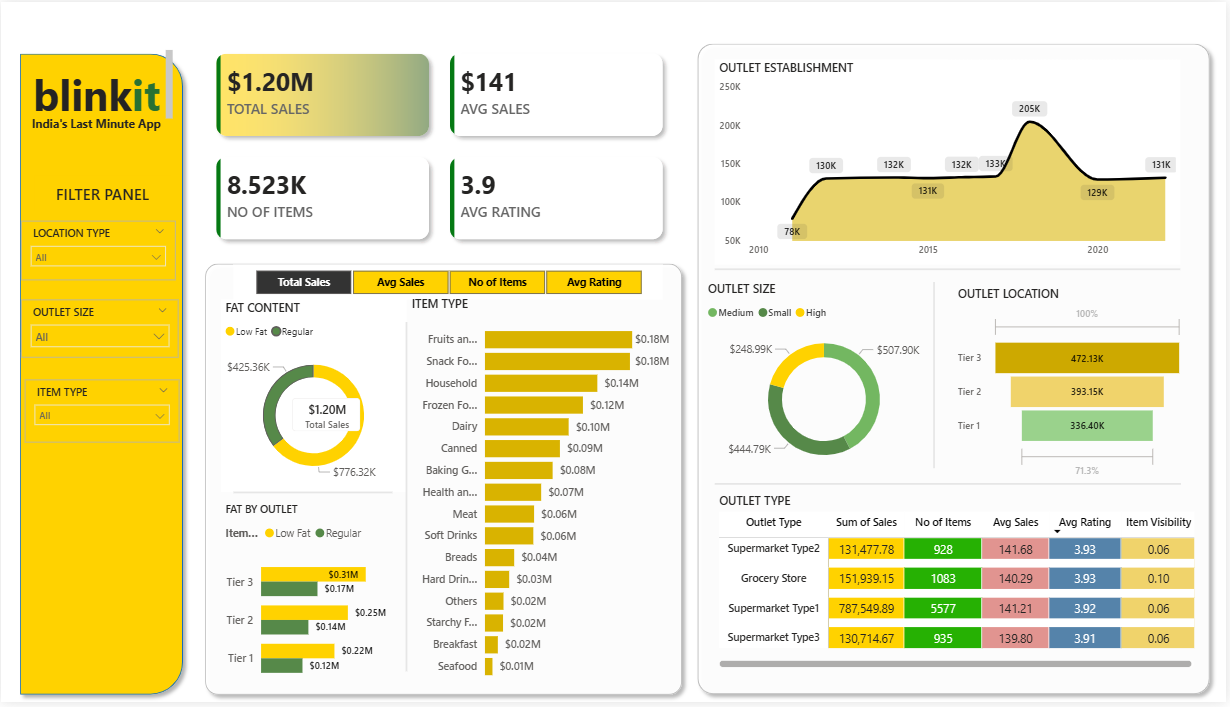

What the dashboard file says about the page in this screenshot:
{"tool":"powerbi","page":{"name":"Page 1","canvas":[1400,800],"ordinal":0},"visuals":[{"type":"shape","box":[13.5,49.5,204.1,750.4],"z":0},{"type":"textbox","box":[31.5,49.5,169.6,90.1],"z":1000},{"type":"textbox","box":[30,124.6,169.6,28.5],"z":2000},{"type":"cardVisual","fields":{"Data":["BlinkIT Grocery Data.Total Sales","BlinkIT Grocery Data.Avg Sales","BlinkIT Grocery Data.No of Items","BlinkIT Grocery Data.Avg Rating"]},"box":[217.2,29.5,569.7,270.8],"z":3000},{"type":"shape","box":[223.9,289.5,563,510.7],"z":4000},{"type":"donutChart","title":"FAT CONTENT","fields":{"Y":["BlinkIT Grocery Data.Total Sales"],"Category":["BlinkIT Grocery Data.Item Fat Content"]},"box":[252,340.5,211.8,219.8],"z":5000},{"type":"slicer","fields":{"Values":["Metrics.Metrics"]},"box":[265.4,300.3,490.6,40.2],"z":6000},{"type":"cardVisual","fields":{"Data":["BlinkIT Grocery Data.Total Sales"]},"box":[315.2,435.3,286.7,72],"z":7000},{"type":"clusteredBarChart","title":"FAT BY OUTLET","fields":{"Y":["BlinkIT Grocery Data.Total Sales"],"Category":["BlinkIT Grocery Data.Outlet Location Type"],"Series":["BlinkIT Grocery Data.Item Fat Content"]},"box":[252,571,211.8,219.8],"z":8000},{"type":"shape","box":[450.4,366,26.8,399.5],"z":9000},{"type":"shape","box":[265.7,549.3,181.6,21],"z":10000},{"type":"barChart","title":"ITEM TYPE","fields":{"Y":["BlinkIT Grocery Data.Total Sales"],"Category":["BlinkIT Grocery Data.Item Type"]},"box":[463.8,335.1,304.3,449.1],"z":11000},{"type":"shape","box":[786.9,38.9,603.2,761.4],"z":12000},{"type":"lineChart","title":"OUTLET ESTABLISHMENT","fields":{"Category":["BlinkIT Grocery Data.Outlet Establishment Year"],"Y":["Sum(BlinkIT Grocery Data.Sales)"]},"box":[815,65.7,532.2,234.6],"z":13000},{"type":"donutChart","title":"OUTLET SIZE","fields":{"Category":["BlinkIT Grocery Data.Outlet Size"],"Y":["BlinkIT Grocery Data.Total Sales"]},"box":[802.9,318.6,275.7,225.7],"z":14000},{"type":"funnel","title":"OUTLET LOCATION","fields":{"Category":["BlinkIT Grocery Data.Outlet Location Type"],"Y":["Sum(BlinkIT Grocery Data.Sales)"]},"box":[1088.5,324.4,268.1,225.2],"z":15000},{"type":"shape","box":[815,289.5,532.2,30.8],"z":16000},{"type":"shape","box":[1053.6,320.4,24.1,213.1],"z":17000},{"type":"pivotTable","title":"OUTLET TYPE","fields":{"Rows":["BlinkIT Grocery Data.Outlet Type"],"Values":["Sum(BlinkIT Grocery Data.Sales)","BlinkIT Grocery Data.No of Items","BlinkIT Grocery Data.Avg Sales","BlinkIT Grocery Data.Avg Rating","Avg(BlinkIT Grocery Data.Item Visibility)"]},"box":[815.7,560,552.9,205.7],"z":18000},{"type":"shape","box":[815.7,535.7,532.9,30],"z":19000},{"type":"slicer","fields":{"Values":["BlinkIT Grocery Data.Outlet Location Type"]},"box":[23.3,250,176.7,68.3],"z":20000},{"type":"slicer","fields":{"Values":["BlinkIT Grocery Data.Outlet Size"]},"box":[23.3,340,180,66.7],"z":21000},{"type":"slicer","fields":{"Values":["BlinkIT Grocery Data.Item Type"]},"box":[26.7,431.7,176.7,71.7],"z":22000},{"type":"shape","box":[38.3,198.3,155,40],"z":22001}]}

Visuals, with their boxes in screenshot pixels (x1, y1, x2, y2), scaled from the page's 1400x800 canvas onto the 1230x707 screenshot:
shape: pyautogui.locateOnScreen(12, 44, 191, 706)
textbox: pyautogui.locateOnScreen(28, 44, 177, 123)
textbox: pyautogui.locateOnScreen(26, 110, 175, 135)
cardVisual - BlinkIT Grocery Data.Total Sales x BlinkIT Grocery Data.Avg Sales: pyautogui.locateOnScreen(191, 26, 691, 265)
shape: pyautogui.locateOnScreen(197, 256, 691, 706)
"FAT CONTENT" donutChart: pyautogui.locateOnScreen(221, 301, 407, 495)
slicer - Metrics.Metrics: pyautogui.locateOnScreen(233, 265, 664, 301)
cardVisual - BlinkIT Grocery Data.Total Sales: pyautogui.locateOnScreen(277, 385, 529, 448)
"FAT BY OUTLET" clusteredBarChart: pyautogui.locateOnScreen(221, 505, 407, 699)
shape: pyautogui.locateOnScreen(396, 323, 419, 677)
shape: pyautogui.locateOnScreen(233, 485, 393, 504)
"ITEM TYPE" barChart: pyautogui.locateOnScreen(407, 296, 675, 693)
shape: pyautogui.locateOnScreen(691, 34, 1221, 706)
"OUTLET ESTABLISHMENT" lineChart: pyautogui.locateOnScreen(716, 58, 1184, 265)
"OUTLET SIZE" donutChart: pyautogui.locateOnScreen(705, 282, 948, 481)
"OUTLET LOCATION" funnel: pyautogui.locateOnScreen(956, 287, 1192, 486)
shape: pyautogui.locateOnScreen(716, 256, 1184, 283)
shape: pyautogui.locateOnScreen(926, 283, 947, 471)
"OUTLET TYPE" pivotTable: pyautogui.locateOnScreen(717, 495, 1202, 677)
shape: pyautogui.locateOnScreen(717, 473, 1185, 500)
slicer - BlinkIT Grocery Data.Outlet Location Type: pyautogui.locateOnScreen(20, 221, 176, 281)
slicer - BlinkIT Grocery Data.Outlet Size: pyautogui.locateOnScreen(20, 300, 179, 359)
slicer - BlinkIT Grocery Data.Item Type: pyautogui.locateOnScreen(23, 382, 179, 445)
shape: pyautogui.locateOnScreen(34, 175, 170, 211)
